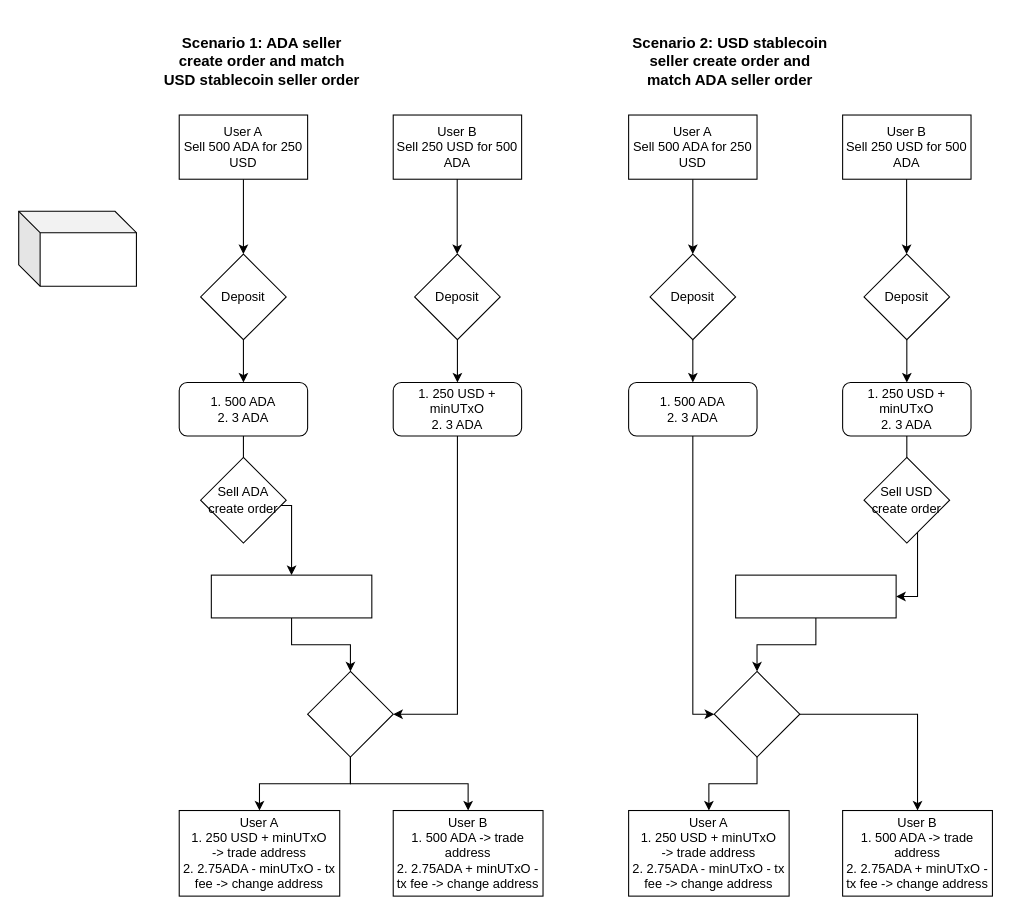
Image size: 1011x915. Some labels were removed from this diagram. The centre of each missing label's shape, as x and y in pixels:
"1. 250 USD + minUTxO + 3 ADA" belongs at (815,596).
"1. 503 ADA" belongs at (291,596).
"Constant: 0.25ADA fee to us" belongs at (77,248).
"Sell ADA match order" belongs at (756,713).
"Sell USD match order" belongs at (350,713).
